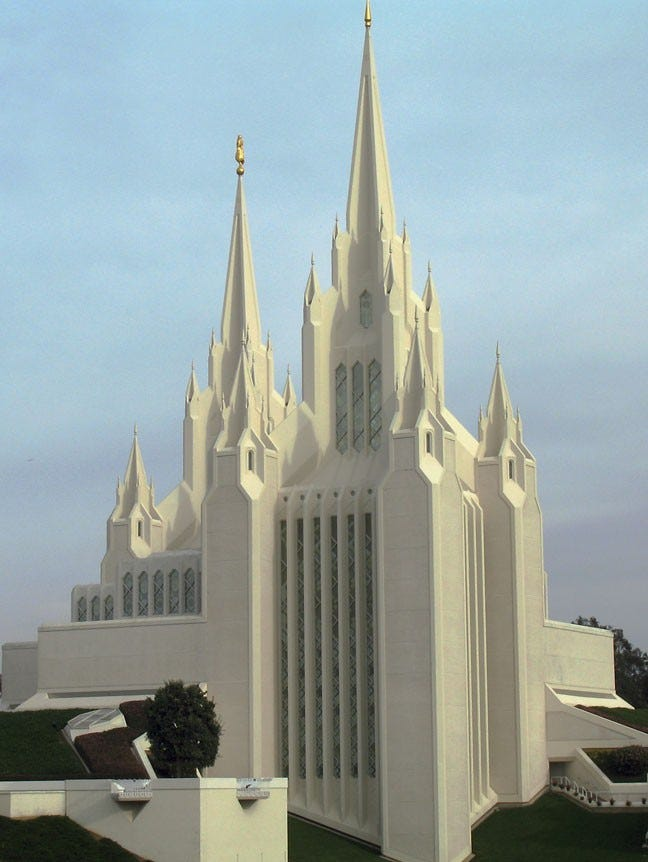Church: (112, 4, 544, 814)
